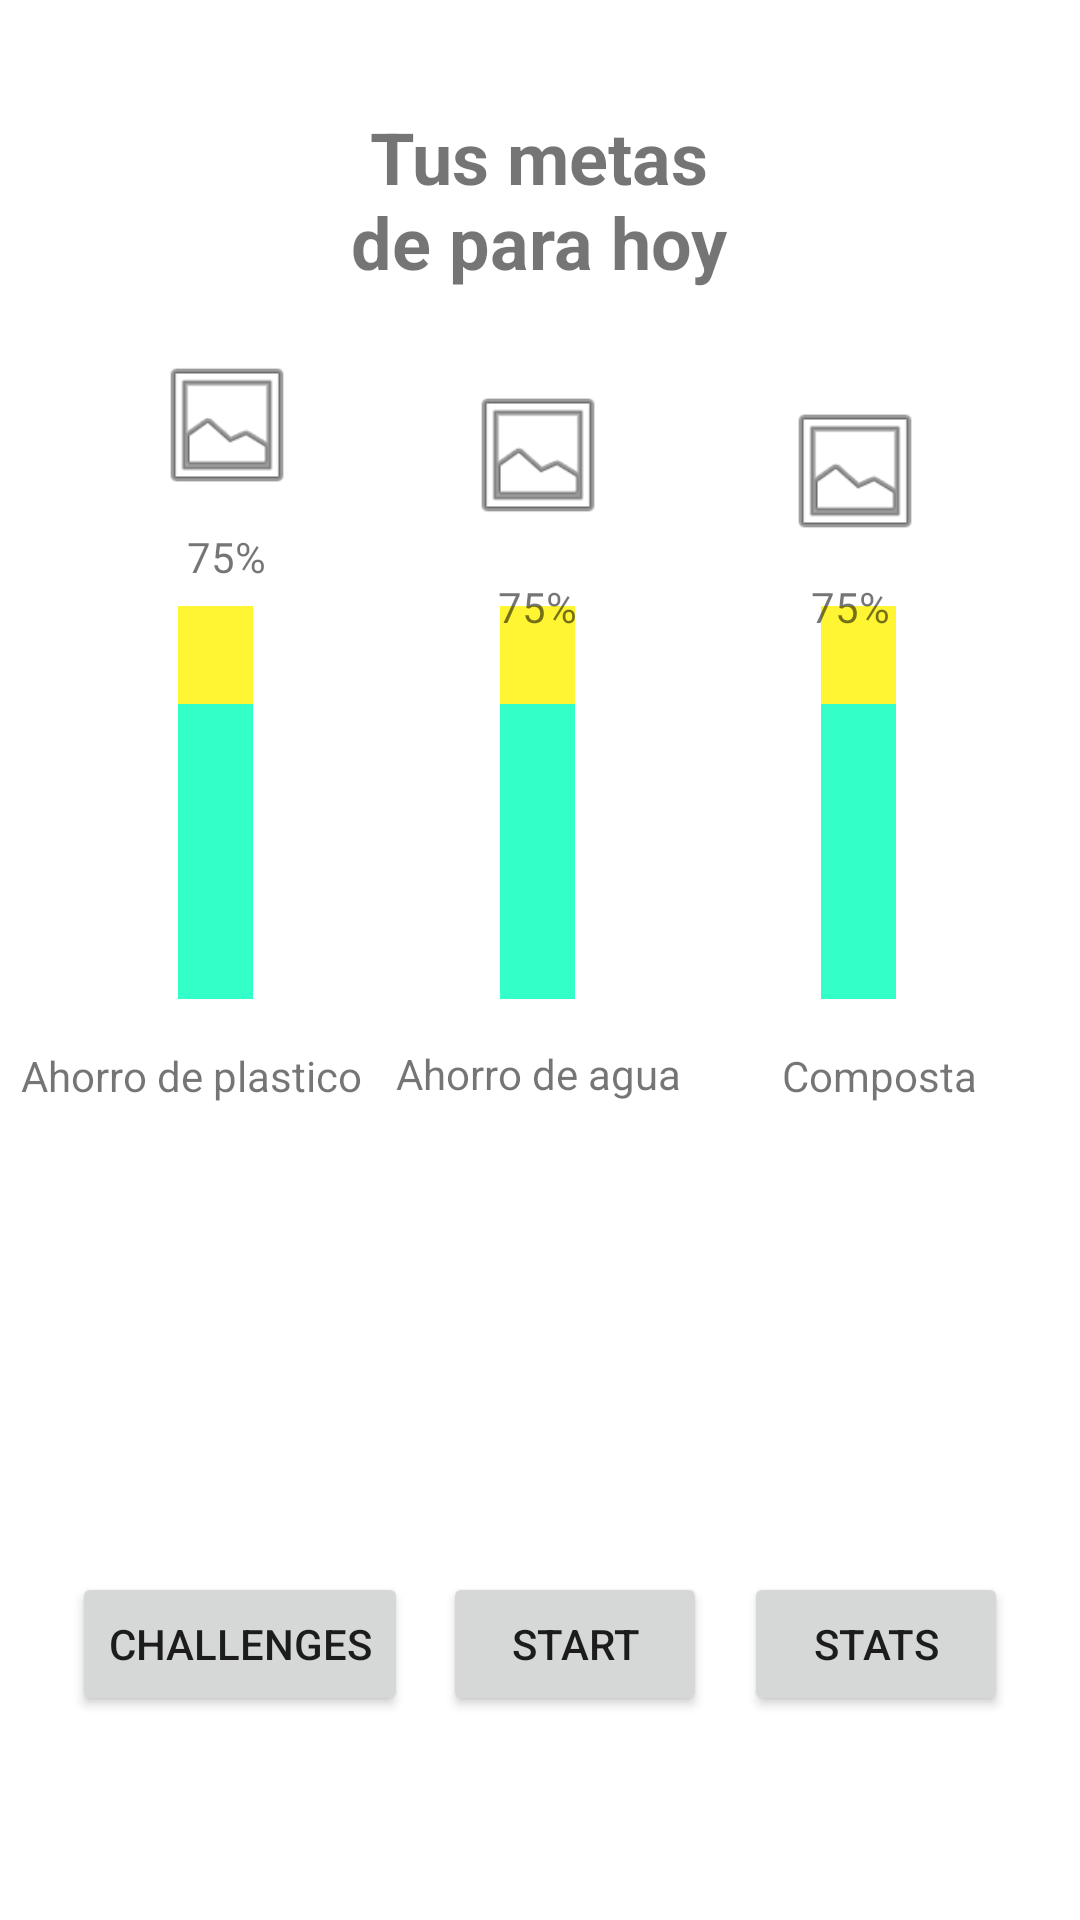

Icons on this 1080px×1920px Android screen, each with its box as (x1, y1, x2, y2):
gallery: (170, 368, 284, 482), (481, 398, 595, 512), (798, 414, 912, 528)
